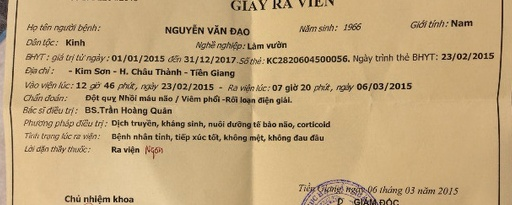add: (209, 67, 237, 78), (157, 66, 183, 77), (131, 67, 154, 76), (190, 67, 209, 77), (74, 66, 92, 76), (93, 66, 111, 76), (119, 66, 129, 76), (66, 66, 74, 76), (111, 66, 119, 76), (182, 67, 190, 77)
birth: (341, 21, 363, 32)
come_time: (389, 80, 415, 92), (193, 80, 216, 92), (140, 80, 160, 92), (176, 80, 193, 93), (371, 80, 388, 93), (255, 82, 273, 94), (314, 82, 333, 93), (118, 81, 138, 91), (336, 82, 354, 93), (355, 81, 371, 93), (161, 79, 176, 91), (103, 79, 117, 91), (271, 82, 285, 94), (285, 82, 299, 94), (300, 82, 314, 94), (241, 82, 255, 93), (227, 81, 239, 93), (88, 80, 101, 91), (75, 80, 88, 90), (217, 83, 227, 92)
diagnostic: (117, 91, 138, 104), (257, 93, 276, 106), (139, 91, 157, 104), (202, 93, 222, 104), (100, 91, 118, 103), (181, 93, 202, 103), (84, 91, 100, 104), (277, 94, 294, 106), (239, 94, 257, 105), (157, 94, 174, 104), (225, 94, 239, 105), (174, 93, 181, 104), (221, 92, 225, 104)
id: (265, 53, 350, 66)
job: (266, 39, 289, 51), (247, 40, 267, 51)
name: (162, 22, 205, 37), (207, 23, 228, 38), (229, 25, 251, 38)
nation: (63, 36, 88, 48)
note: (143, 144, 167, 156), (124, 144, 141, 155), (109, 145, 123, 156)
sex: (449, 17, 475, 30)
solution: (297, 119, 334, 130), (130, 118, 160, 130), (160, 117, 185, 129), (227, 119, 251, 130), (110, 118, 131, 129), (186, 118, 207, 129), (207, 119, 226, 129), (263, 118, 277, 130), (278, 120, 295, 129), (251, 119, 263, 130)
